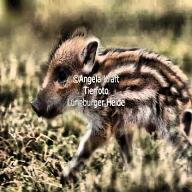boar: (23, 22, 192, 174)
